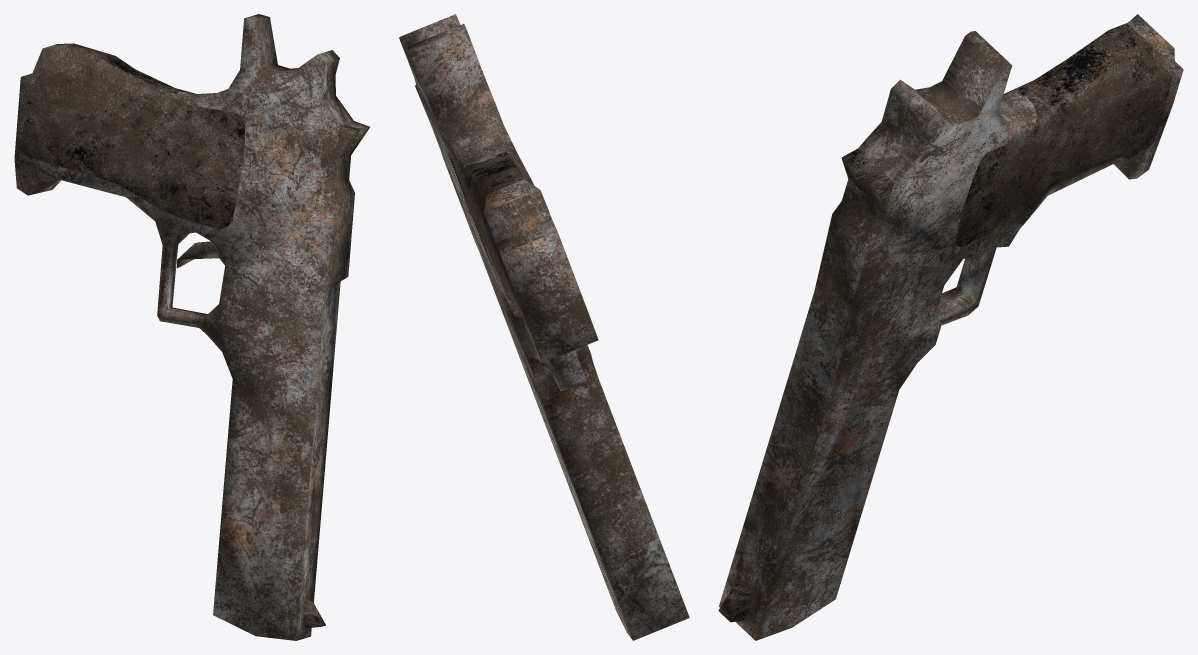
File: Anim_disparar_pistola_objetos.0014.obj
3 renders of one model, left to right at view 1: azimuth 30°, elevation 25°; view 2: azimuth 150°, elevation 25°; view 3: azimuth 270°, elevation 25°, orthographic. The views are drawn at different scales.
Visible parts, largest first — view 1: Pistola1; view 2: Pistola1; view 3: Pistola1.
Boxes of the visible parts, box(x1,y1,x2,y2) form: Pistola1: box(14, 14, 369, 640); Pistola1: box(399, 14, 689, 640); Pistola1: box(718, 14, 1183, 640).
Size of the model in its own units: 0.8054 by 1.66 by 1.11.
